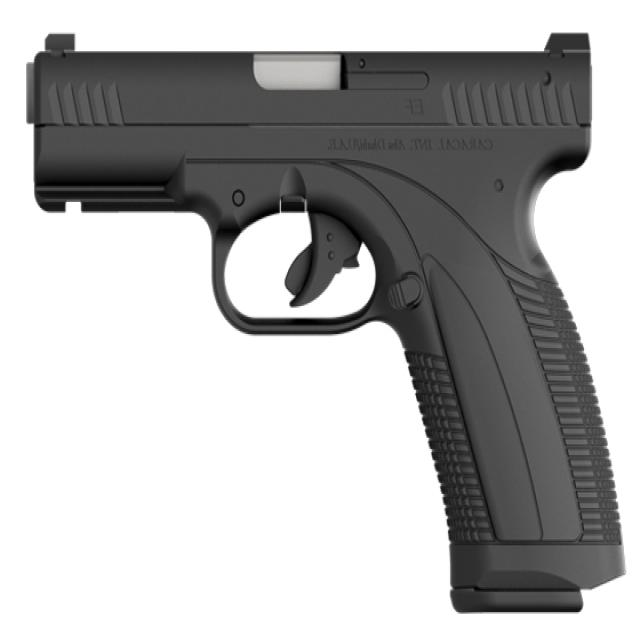Gun: (28, 27, 596, 619)
